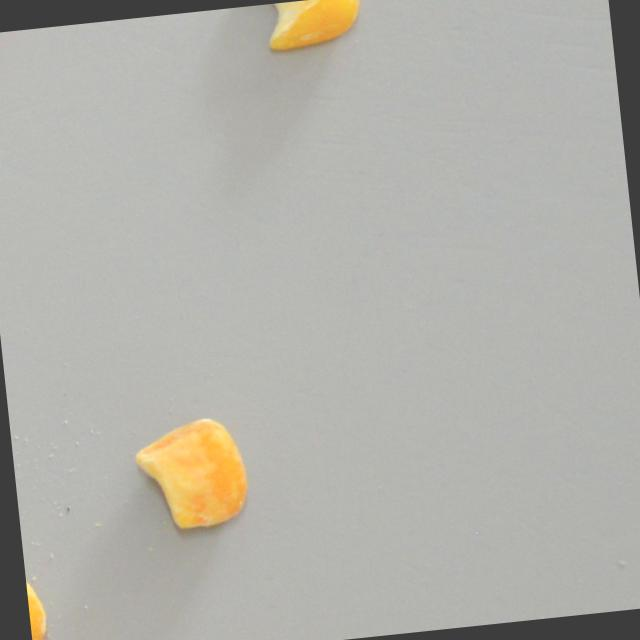pelicula: (133, 413, 250, 535), (242, 0, 361, 53), (23, 557, 47, 640)
